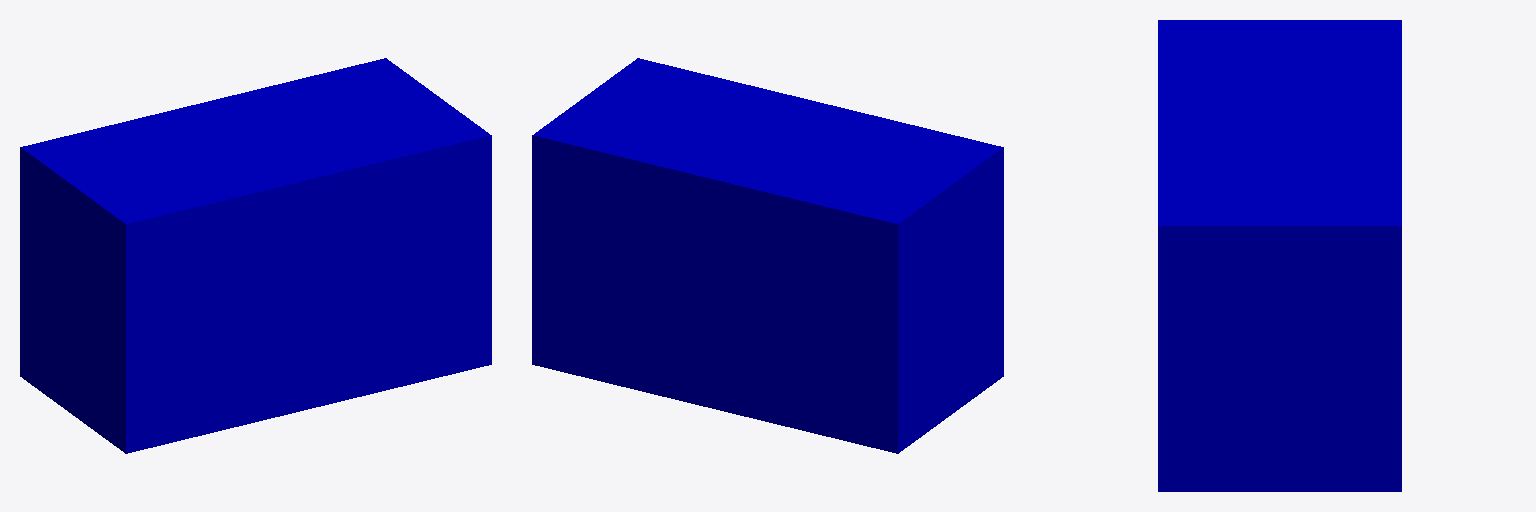
robot.urdf — physics:
<?xml version="1.0"?>
<robot name="physics">

  <material name="wood">
    <color rgba="0 0 0.8 1"/>
  </material>

  <link name="base_link">
    <visual>
      <geometry>
        <box size="0.25 0.125 0.15"/>
      </geometry>
      <material name="wood"/>
    </visual>
    <collision>
      <geometry>
        <box size="0.25 0.125 0.15"/>
      </geometry>
    </collision>
    <inertial>
      <mass value="5"/>
      <inertia ixx="1.0" ixy="0.0" ixz="0.0" iyy="1.0" iyz="0.0" izz="1.0"/>
    </inertial>
  </link>

</robot>

--- Facts derived from the render (not from the file) ---
Views: 3 orthographic renders of the robot side by side, from view 1: azimuth 30°, elevation 25°; view 2: azimuth 150°, elevation 25°; view 3: azimuth 270°, elevation 25°.
Robot: physics — 1 links, 0 joints (none); root link base_link; default pose: every joint at zero.
Links seen in each view (by area): view 1: base_link; view 2: base_link; view 3: base_link.
Boxes of the visible links, <box> form: base_link: <box>20,58,491,453</box>; base_link: <box>532,58,1003,453</box>; base_link: <box>1158,20,1401,491</box>.
Size in the robot's own frame: 0.25 by 0.125 by 0.15 metres.
Geometry: primitives only (box / cylinder / sphere), no mesh files.
